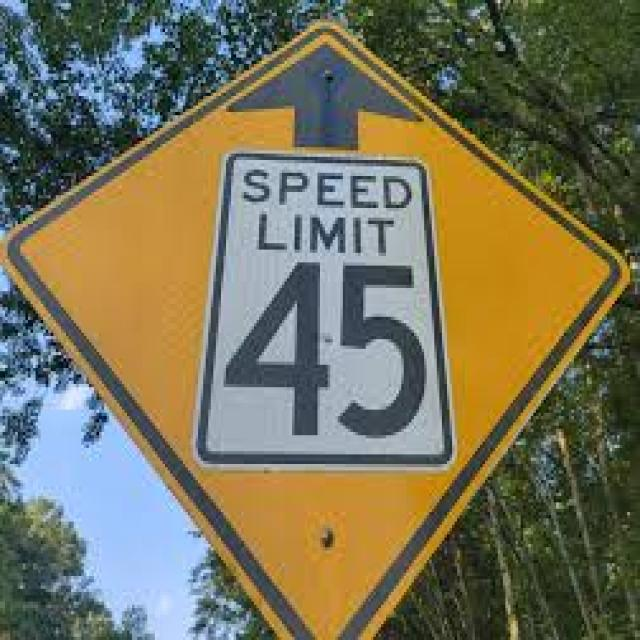speedLimit45: (215, 146, 443, 469)
